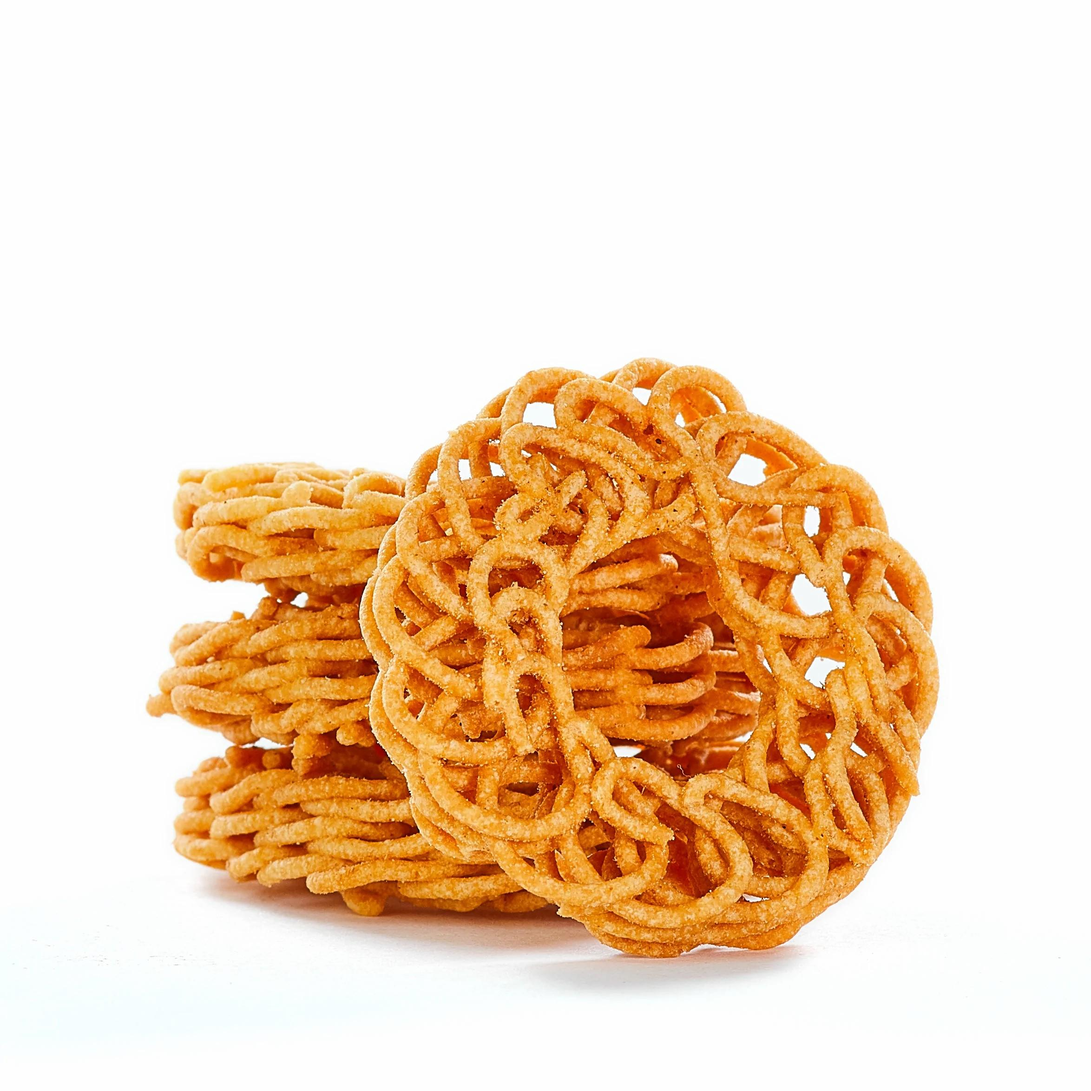Jalebi: (143, 344, 941, 970)
